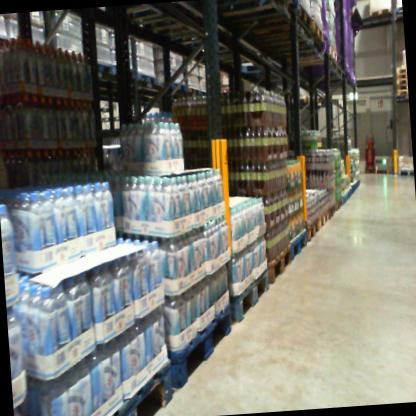pallet: (153, 300, 241, 398), (97, 351, 179, 416), (208, 1, 321, 39), (221, 266, 275, 326), (250, 48, 343, 74), (259, 18, 327, 53), (262, 242, 296, 287), (284, 230, 310, 261), (366, 2, 396, 25), (83, 58, 113, 80), (110, 62, 137, 86), (301, 215, 320, 244), (162, 78, 187, 97), (135, 67, 158, 87), (317, 210, 331, 232), (184, 81, 202, 98), (326, 201, 338, 223), (399, 167, 413, 179), (332, 197, 343, 211), (396, 89, 408, 98), (395, 66, 406, 74), (397, 84, 407, 92), (395, 79, 408, 85), (394, 74, 406, 79)
